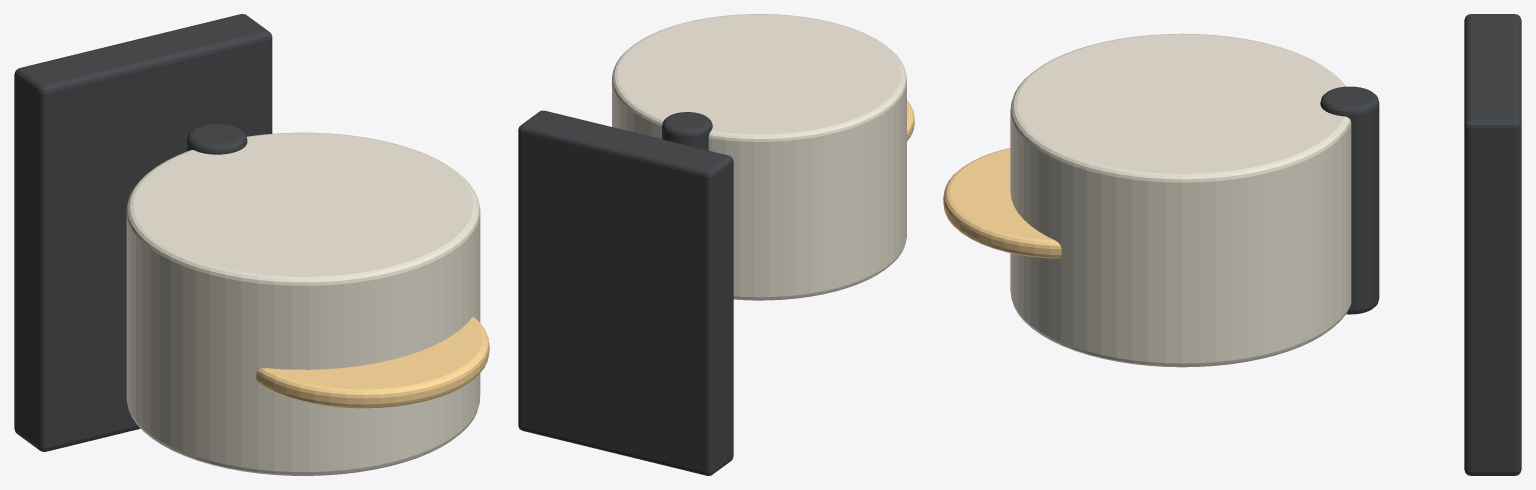
Rendered from minimal-wall-sconce-01.glb.
The picture shows the model from 3 angles, left to right: view 1: azimuth 30°, elevation 25°; view 2: azimuth 150°, elevation 25°; view 3: azimuth 270°, elevation 25°; orthographic projection. The views are drawn at different scales.
Visible parts, largest first — view 1: minimal-wall-sconce-01; view 2: minimal-wall-sconce-01; view 3: minimal-wall-sconce-01.
Part boxes in pixels (x1,y1,x2,y2): minimal-wall-sconce-01: [14, 14, 489, 475]; minimal-wall-sconce-01: [518, 14, 914, 475]; minimal-wall-sconce-01: [943, 14, 1521, 475].
Bounding box in the file's own units: 0.21 × 0.24 × 0.3535.
